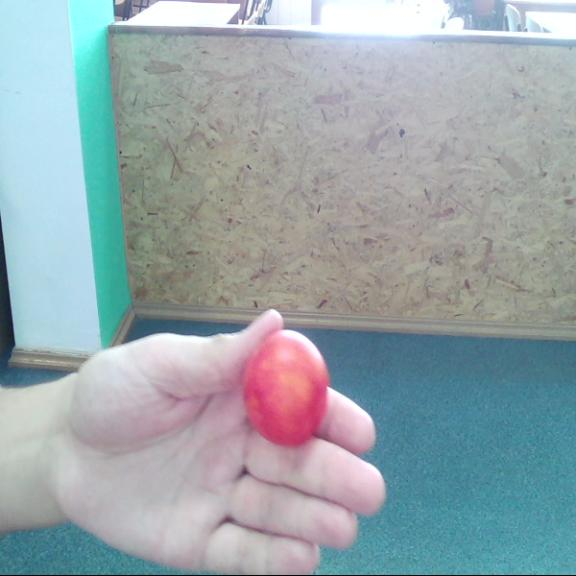ball: (238, 328, 334, 446)
